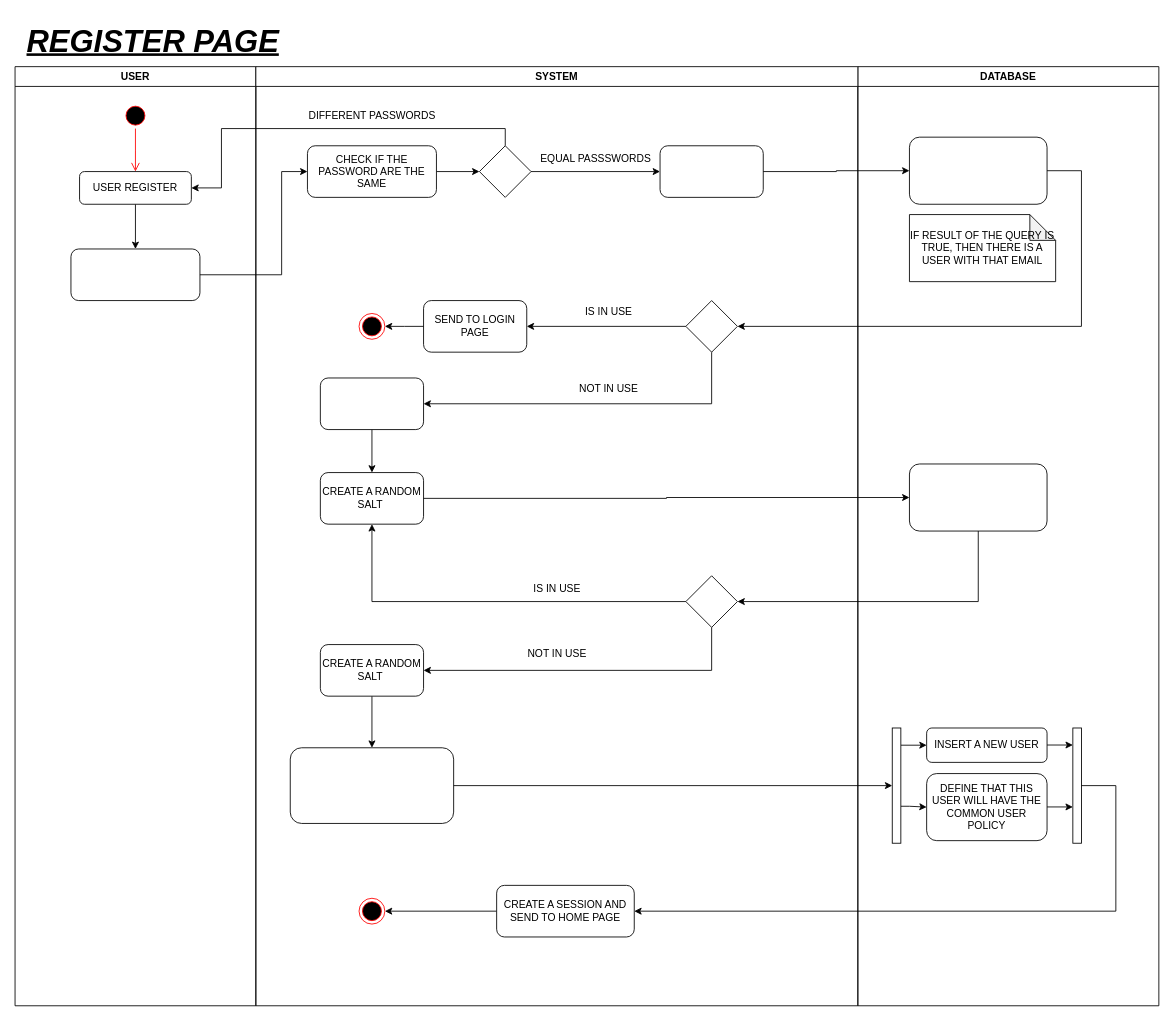
This 1174x1021 diagram has some shape labels left out. Each missing label, with the centre of its shape:
CHECK IF SALT IS BEING USED BY ANOTHER USER: the point at 978,497
CHECK IF THERE IS ANY USER WITH THAT EMAIL: the point at 978,170
CONCATENES PASSWORD WITH THE GENERATED SALT VALUE AND CREATE A HASH: the point at 371,785
SANATIZE EMAIL: the point at 711,171
SANATIZE PASSWORD: the point at 371,403
USER WRITE: -EMAIL -PASSWORD -CONFIRM PASSWORD: the point at 135,274
